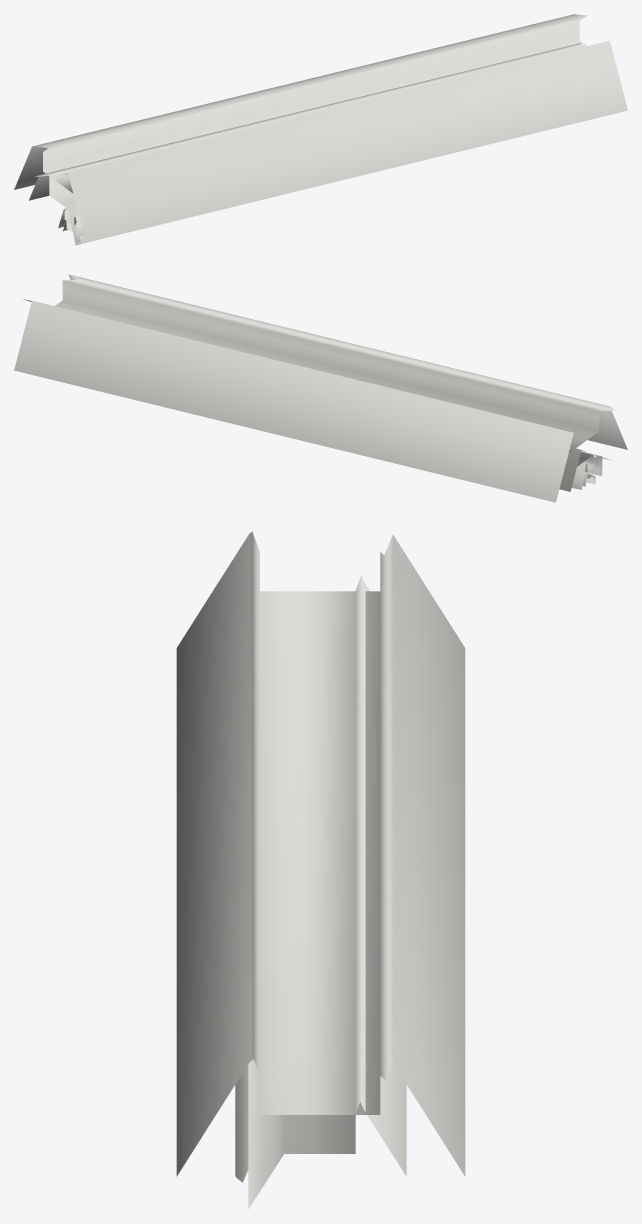
File: iss-truss-p1.glb
3 views of the same model, one above another, from view 1: azimuth 30°, elevation 25°; view 2: azimuth 150°, elevation 25°; view 3: azimuth 270°, elevation 25° (orthographic). The views are drawn at different scales.
Parts seen in each view (by area): view 1: truss-p1; view 2: truss-p1; view 3: truss-p1.
Part boxes in pixels (x1,y1,x2,y2): truss-p1: (14, 14, 627, 245); truss-p1: (14, 274, 627, 502); truss-p1: (176, 531, 465, 1208).
Size of the model in its own units: 13.25 by 1.76 by 2.95.
1 material, 1 textured.
